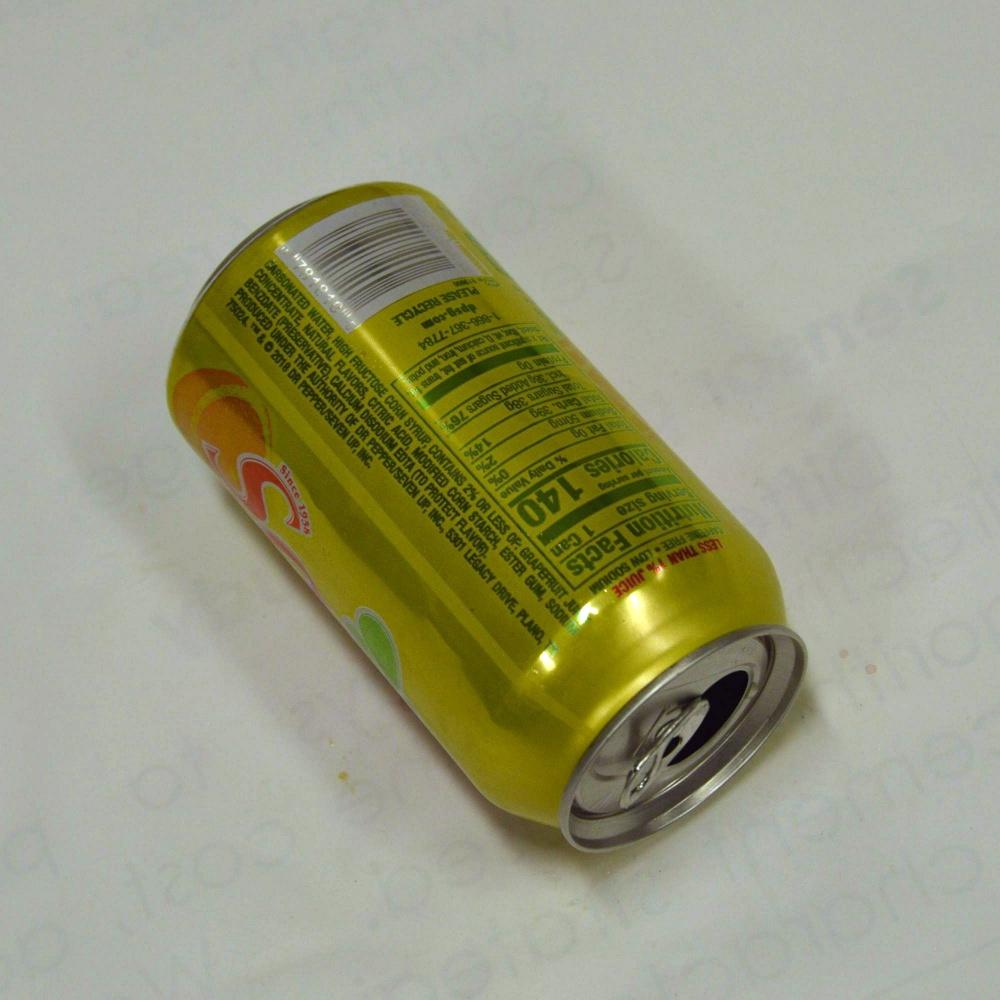Metal: (123, 143, 761, 893)
